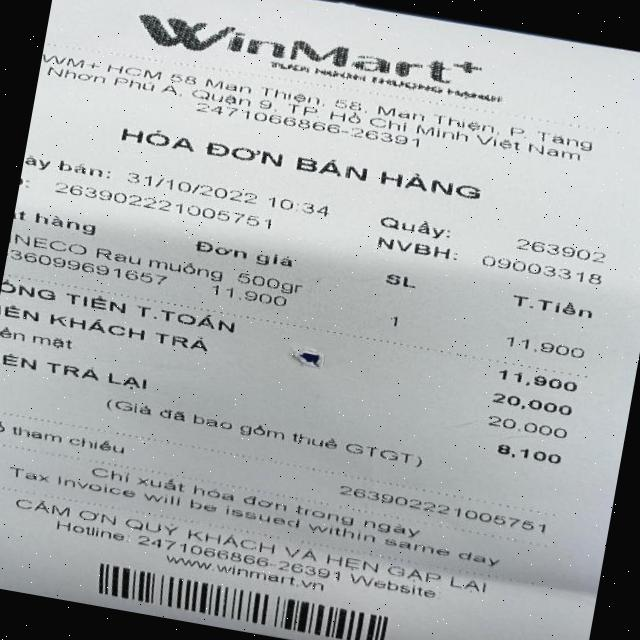Date: (110, 164, 268, 210)
Store_Name: (97, 0, 522, 113)
amount_number: (488, 364, 586, 398)
label_total: (0, 274, 239, 335)
